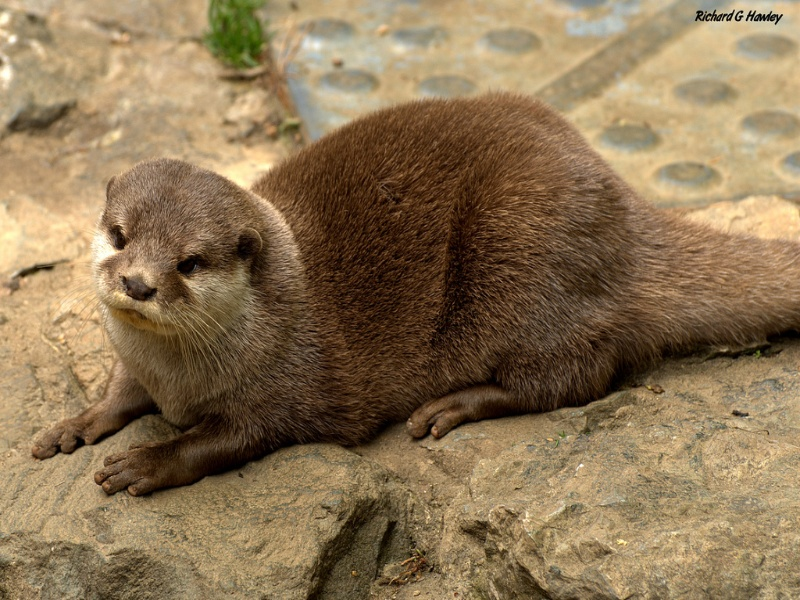minkish: (38, 94, 794, 513)
